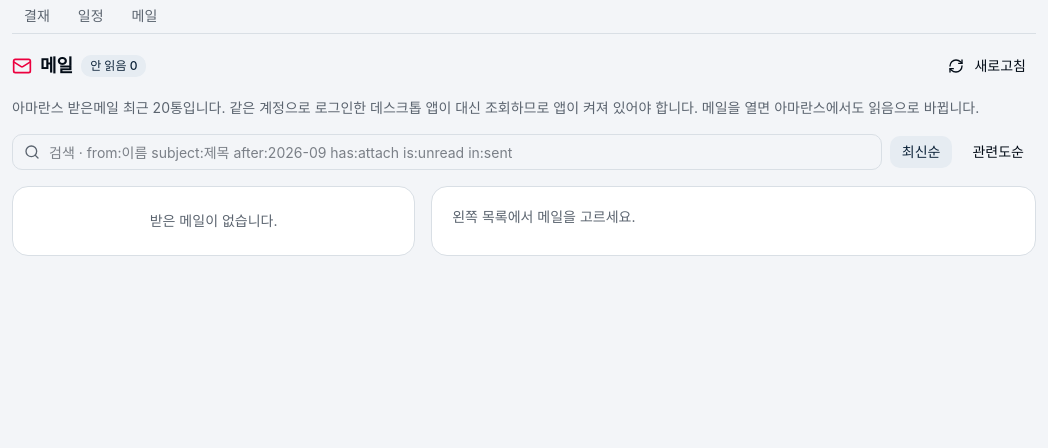
메일 페이지 › 검색어를 넣으면 데스크톱 앱 색인에서 찾아 결과·발췌·색인 상태를 보여 주고, 결과를 누르면 본문을 연다
Expected: the text "받은 메일이 없습니다." is shown, [150,212,278,229]
Replace the text in the search field named "메일 검색" with "회의실" at (447, 152), box [12,134,882,170]
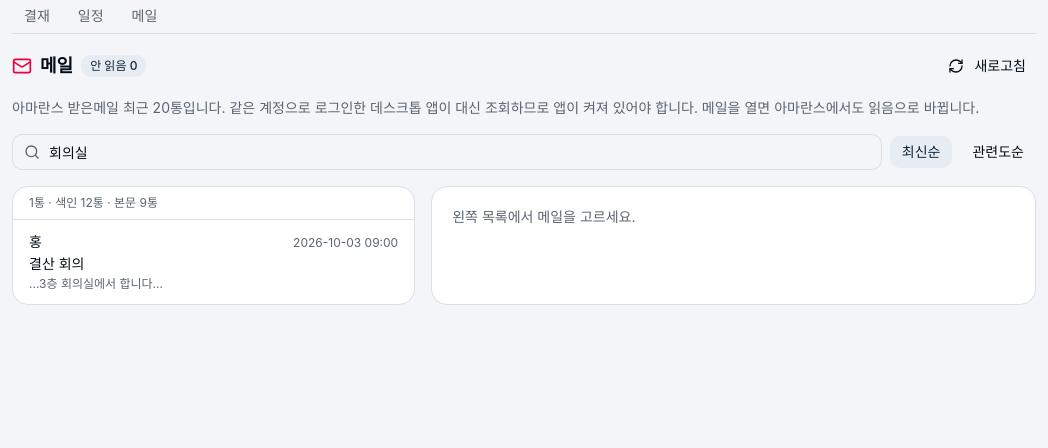
Now the text "…3층 회의실에서 합니다…" is shown, box [29,276,163,291]
Now the text "1통 · 색인 12통 · 본문 9통" is shown, box [13,187,414,220]
Click the button "홍 2026-10-03 09:00 결산 회의 …3층 회의실에서 합니다…" at (346, 242), box [13,220,414,304]
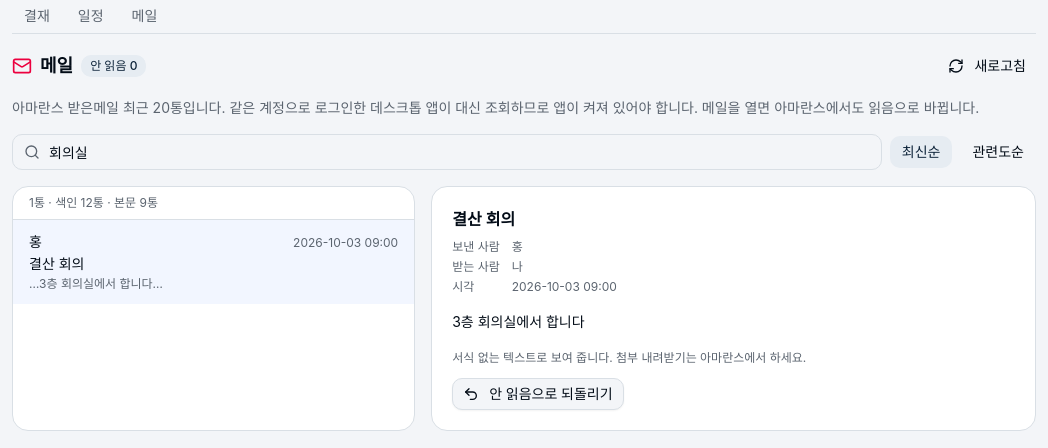
Now the heading "결산 회의" is shown, box [452,209,515,229]
